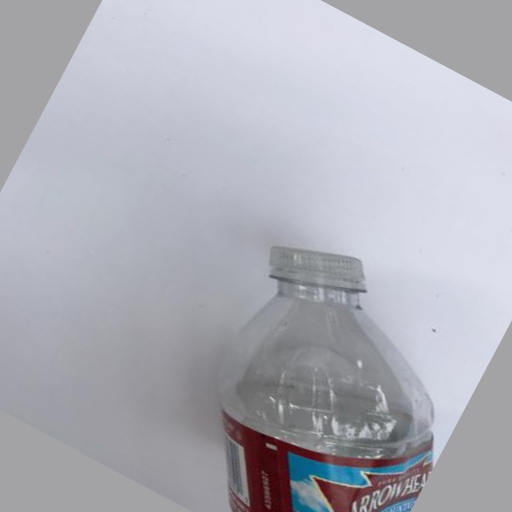Plastic_0: (216, 244, 438, 512)
